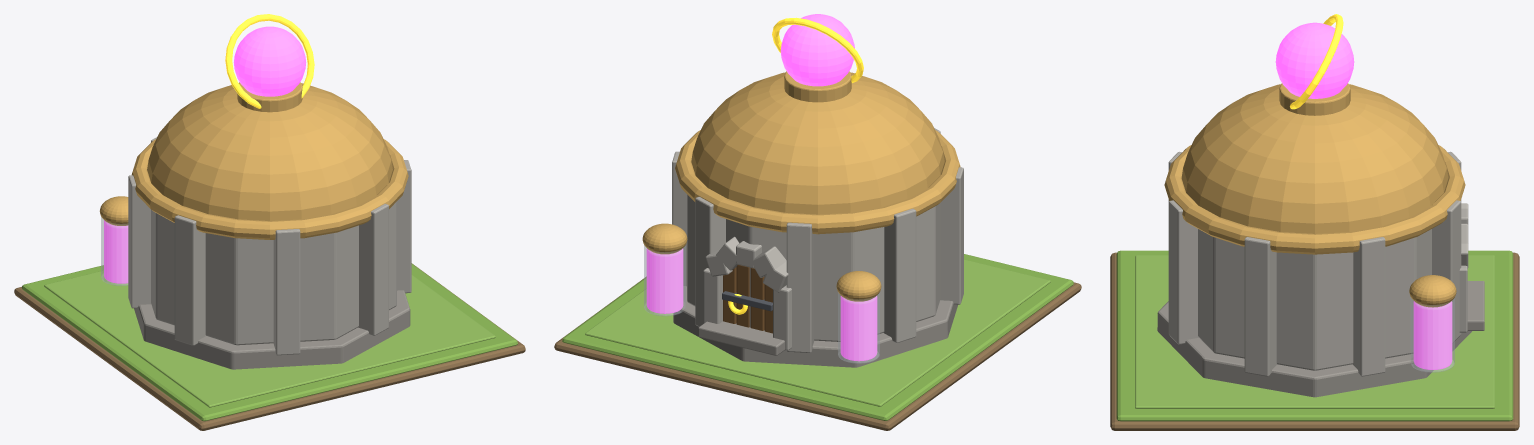
Rendered from laboratory_lv4.glb.
The picture shows the model from 3 angles, left to right: view 1: azimuth 30°, elevation 25°; view 2: azimuth 150°, elevation 25°; view 3: azimuth 270°, elevation 25°; orthographic projection. The views are drawn at different scales.
Visible parts, largest first — view 1: LabDome, LabWallDrum, Base_Inner, Base_Grass, LabPlinth, LabDomeRim, Base_Dirt, ArcaneOrb, LabPillar_4, LabPillar_6, LabPillar_5, LabPillar_3 (+6 smaller); view 2: LabDome, Base_Inner, LabWallDrum, Base_Grass, LabDomeRim, Base_Dirt, LabPlinth, LabPillar_3, ArcaneOrb, LabPillar_2, LabPillar_4, SideVatGlass_1 (+17 smaller); view 3: LabDome, LabWallDrum, Base_Inner, Base_Grass, LabDomeRim, LabPlinth, Base_Dirt, LabPillar_0, LabPillar_7, ArcaneOrb, LabPillar_6, SideVatGlass_0 (+7 smaller).
Part boxes in pixels (box(x1,y1,x2,y2)): LabDome: box(147, 83, 392, 220); LabWallDrum: box(151, 201, 396, 345); Base_Inner: box(44, 270, 495, 407); Base_Grass: box(22, 263, 517, 421); LabPlinth: box(134, 290, 410, 369); LabDomeRim: box(131, 139, 408, 239); Base_Dirt: box(14, 263, 525, 430); ArcaneOrb: box(233, 26, 306, 96); LabPillar_4: box(174, 215, 206, 345); LabPillar_6: box(358, 203, 388, 335); LabPillar_5: box(273, 229, 300, 355); LabPillar_3: box(128, 175, 151, 308); LabDome: box(691, 72, 944, 214); Base_Inner: box(585, 259, 1050, 406); LabWallDrum: box(687, 194, 940, 341); Base_Grass: box(562, 254, 1073, 420); LabDomeRim: box(675, 130, 960, 234); Base_Dirt: box(554, 277, 1081, 430); LabPlinth: box(673, 286, 957, 367); LabPillar_3: box(884, 208, 916, 343); ArcaneOrb: box(780, 14, 854, 86); LabPillar_2: box(786, 222, 814, 352); LabPillar_4: box(940, 167, 963, 304); SideVatGlass_1: box(838, 292, 879, 363); LabDome: box(1181, 84, 1448, 233); LabWallDrum: box(1198, 229, 1431, 370); Base_Inner: box(1135, 255, 1494, 408); Base_Grass: box(1116, 250, 1513, 421); LabDomeRim: box(1164, 145, 1465, 254); LabPlinth: box(1157, 301, 1471, 397); Base_Dirt: box(1110, 252, 1519, 430); LabPillar_0: box(1353, 237, 1385, 376); LabPillar_7: box(1244, 237, 1276, 376); ArcaneOrb: box(1275, 22, 1354, 98); LabPillar_6: box(1168, 200, 1198, 344); SideVatGlass_0: box(1410, 297, 1454, 372).
Bounding box in the file's own units: 2.76 × 2.43 × 2.76.
